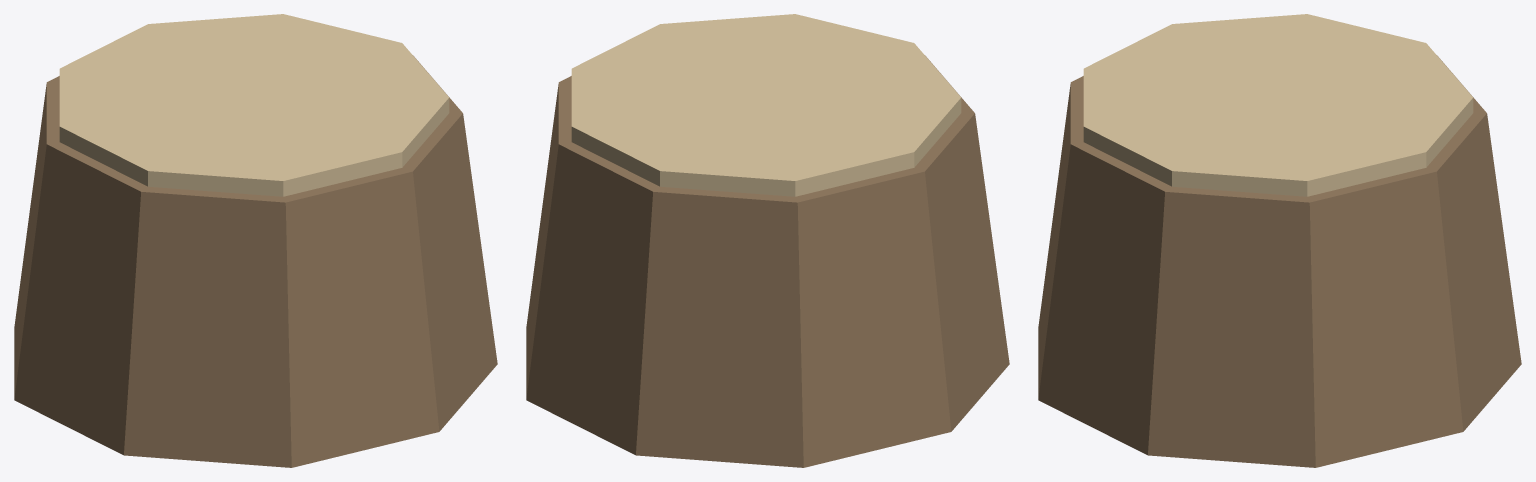
File: stump.glb
3 views of the same model, side by side, from view 1: azimuth 30°, elevation 25°; view 2: azimuth 150°, elevation 25°; view 3: azimuth 270°, elevation 25° (orthographic).
Parts seen in each view (by area): view 1: stump; view 2: stump; view 3: stump.
Part boxes in pixels (bbox=[...]): stump: bbox=[14, 14, 497, 467]; stump: bbox=[526, 14, 1009, 467]; stump: bbox=[1038, 14, 1521, 467].
Bounding box in the file's own units: 1.42 × 0.85 × 1.4.
